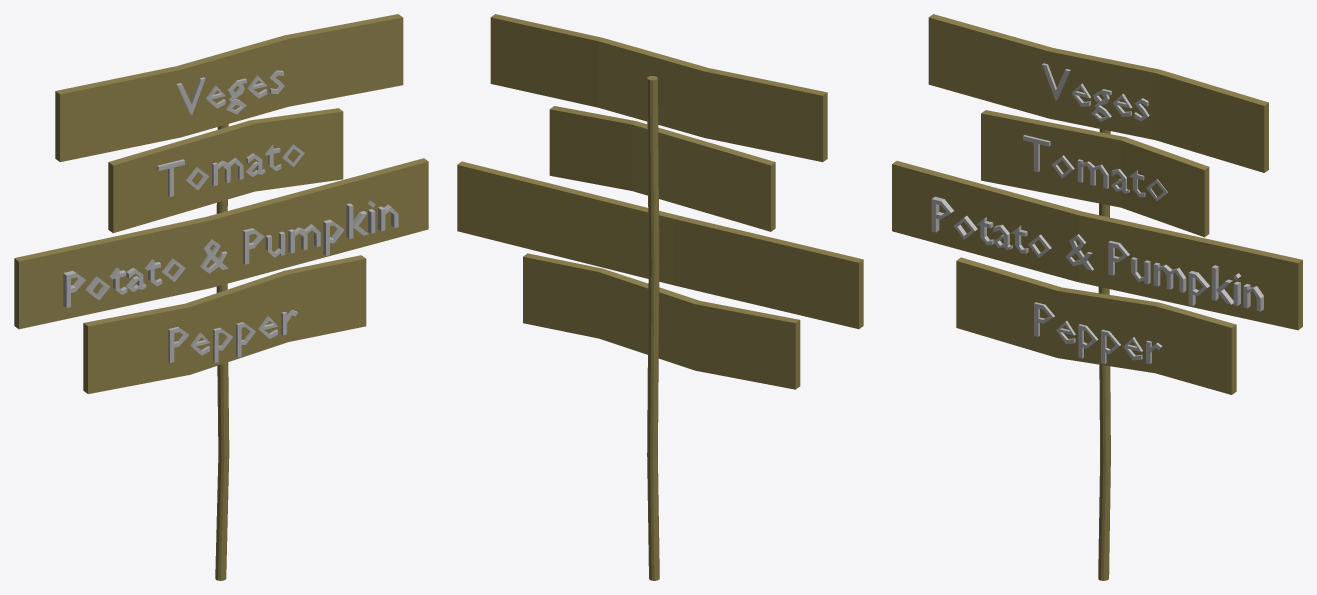
Rendered from signboard02.fbx.
3 views of the same model, side by side, from view 1: azimuth 30°, elevation 25°; view 2: azimuth 150°, elevation 25°; view 3: azimuth 330°, elevation 25° (orthographic).
Visible parts, largest first — view 1: Text.003; view 2: Text.003; view 3: Text.003.
Part boxes in pixels (x1,y1,x2,y2): Text.003: (14, 14, 428, 580); Text.003: (457, 14, 863, 580); Text.003: (892, 14, 1302, 580).
Size of the model in its own units: 1.52 by 1.88 by 0.084.
